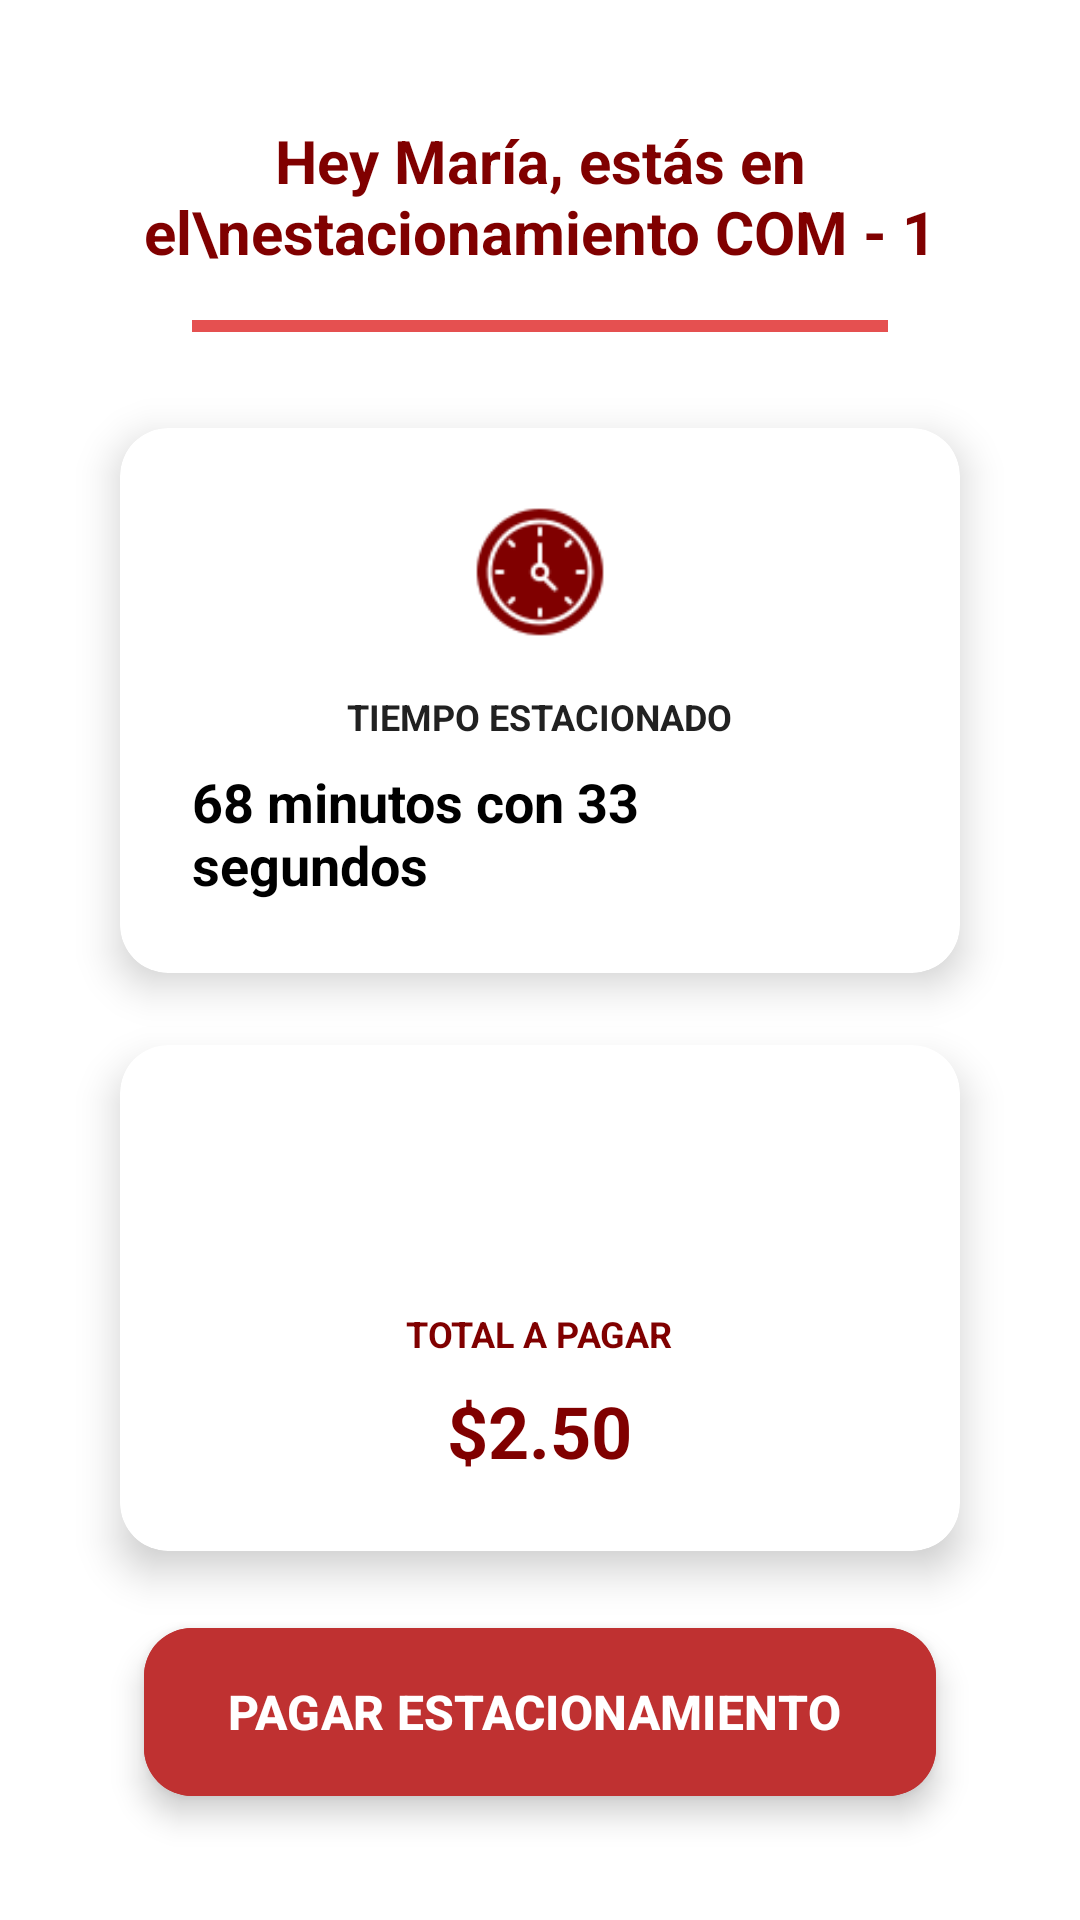

Locate icon controls on the screen. Image size 1080*1920, boxes as (x1, y1, x2, y2).
rejojito: (476, 508, 604, 636)
